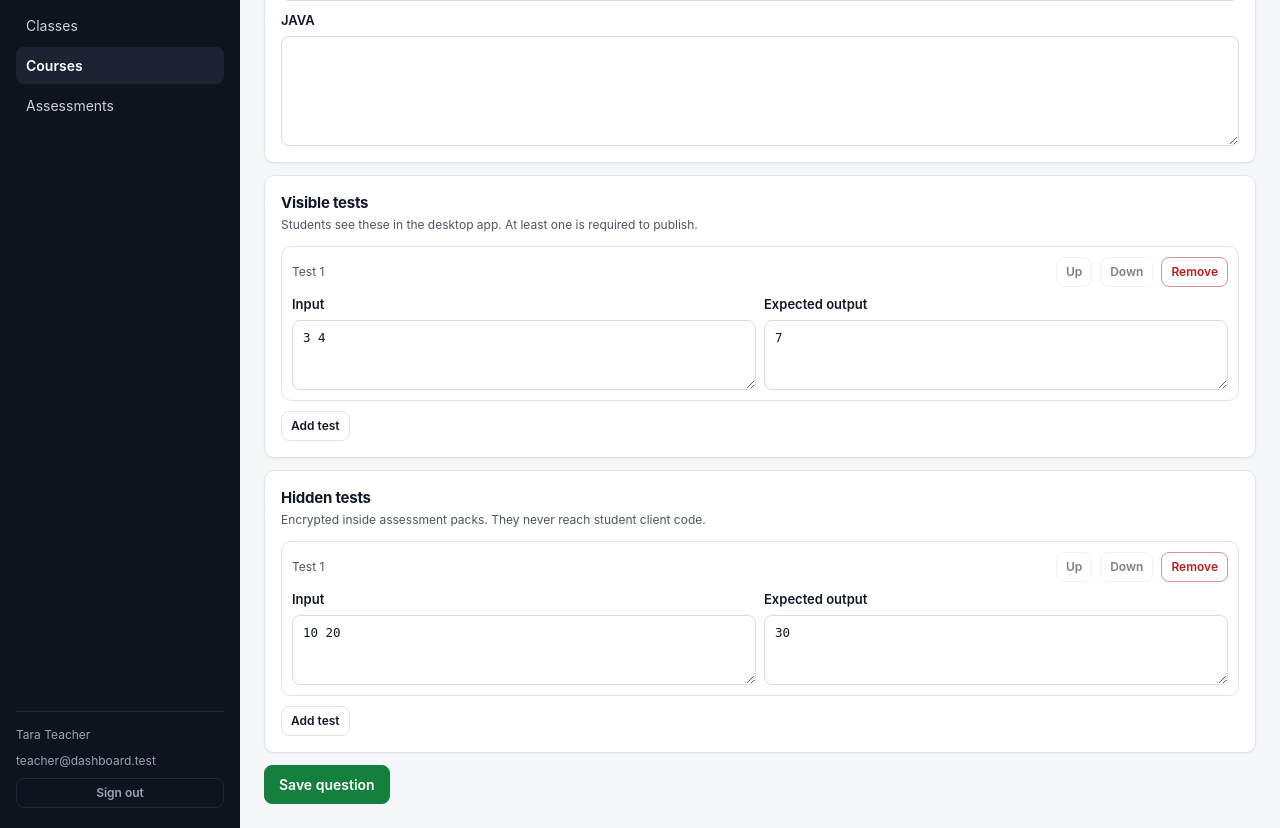
Test: teacher hidden-test editor › round-trips a hidden test through save and reload
The image size is (1280, 828).
Later steps or results of the test are not shown.
(page scrolled)
Replace the text in the 2nd text box labelled "Input" with "21 21": (524, 650) [292,614,756,684]
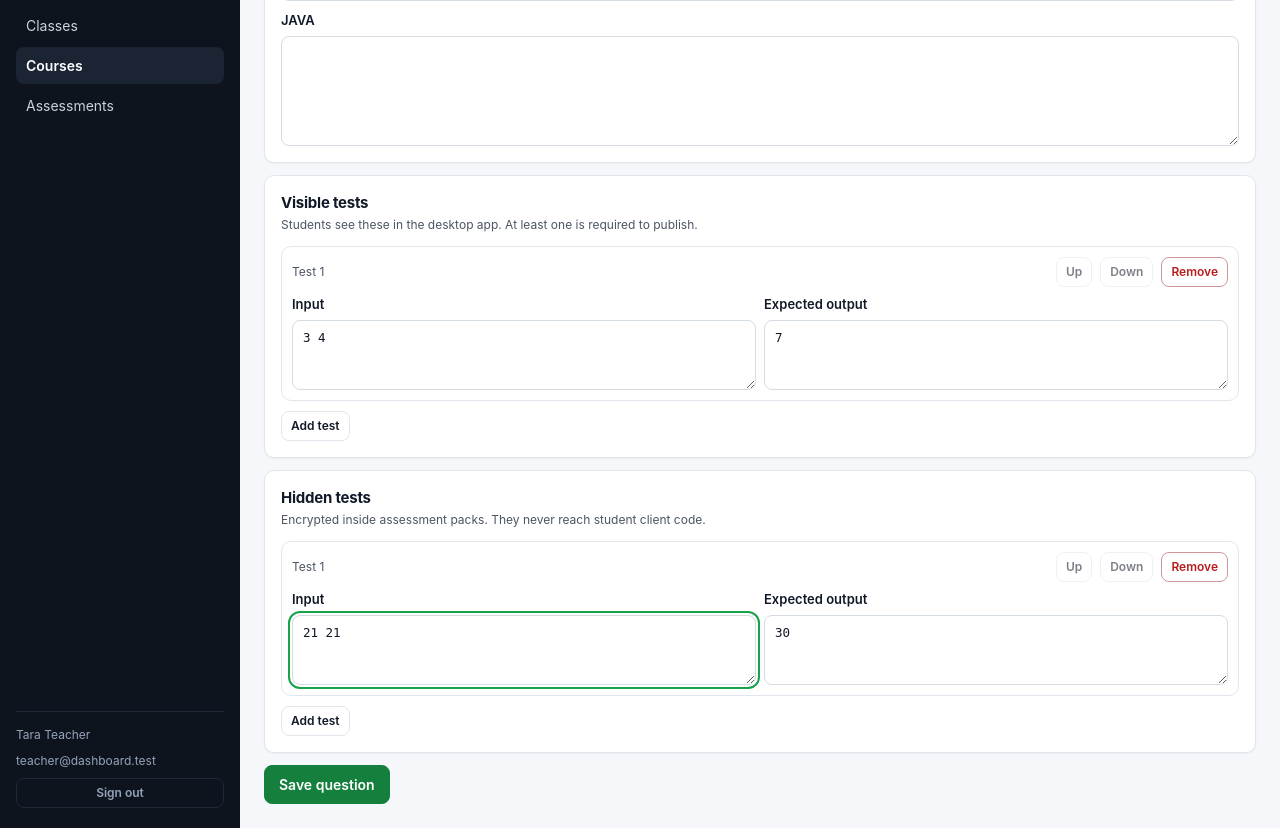
Click the button "Save question": (327, 784) [264,764,390,804]
(page scrolled)
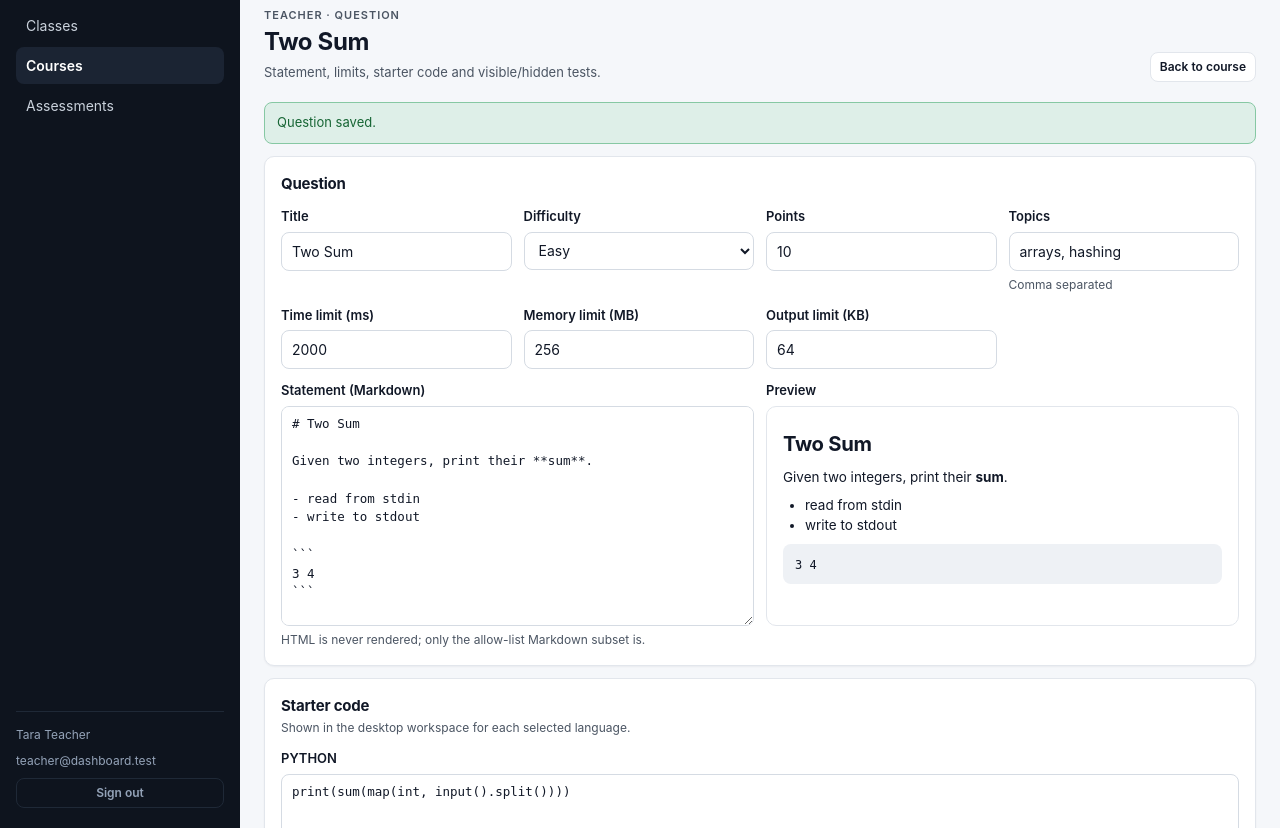
expect the text "Question saved." is shown: met, box [264,102,1256,144]
